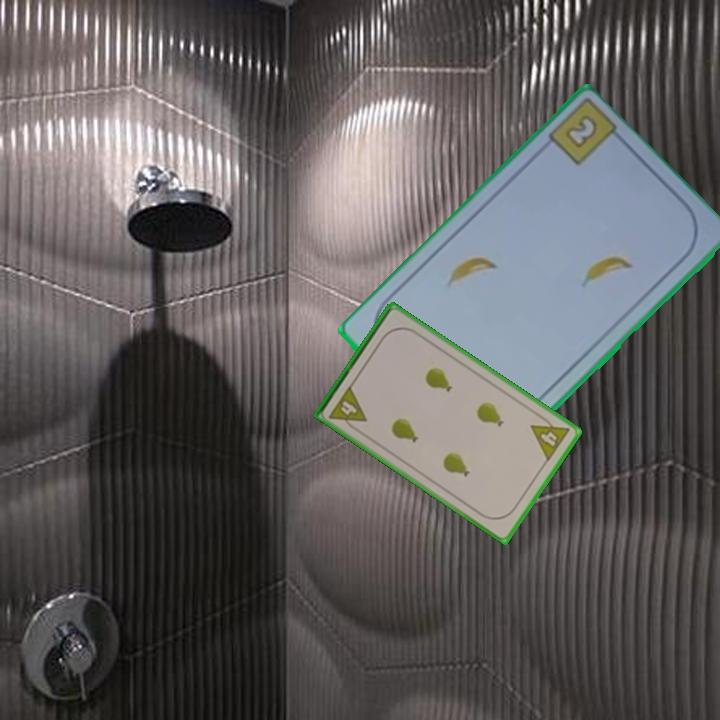2b: (565, 114, 597, 149)
4p: (527, 410, 573, 464), (325, 382, 370, 434)
